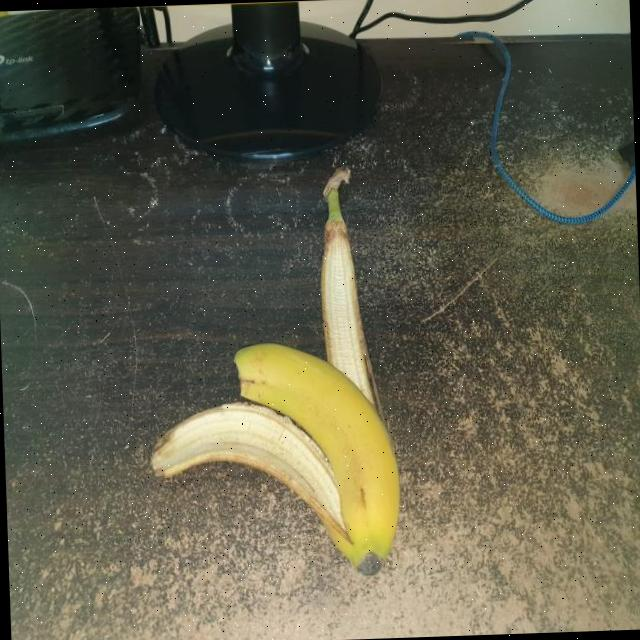banana-peel: (145, 335, 403, 583), (314, 163, 379, 414)
